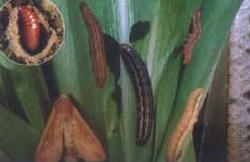larva: (109, 41, 155, 146), (165, 82, 208, 161), (77, 2, 111, 86), (172, 4, 210, 73)
moth: (32, 89, 118, 162)
pupa: (16, 8, 45, 56)
